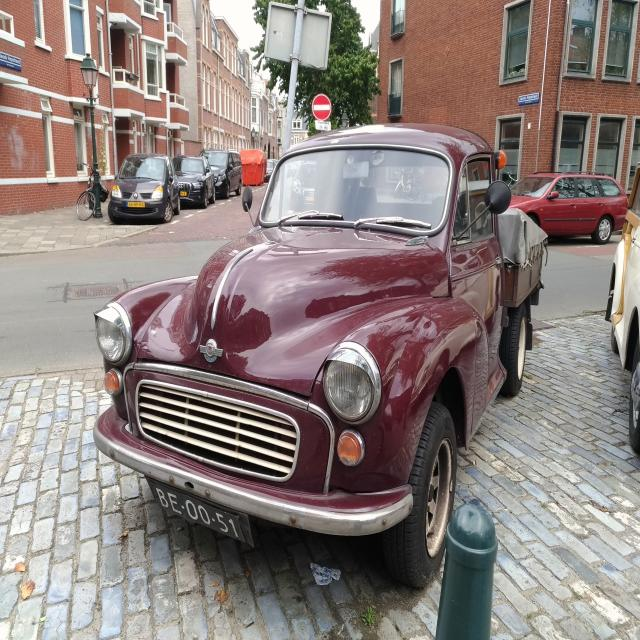plate: (145, 475, 254, 549)
